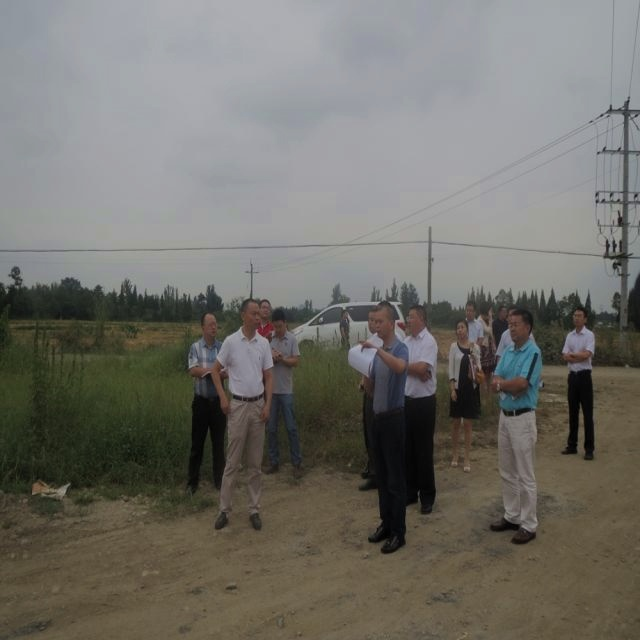Sin_Casco_Mascarrilla: (407, 304, 426, 336), (202, 312, 218, 341), (573, 307, 588, 329)
Sin_Chaleco: (498, 344, 542, 411), (228, 329, 268, 399)
